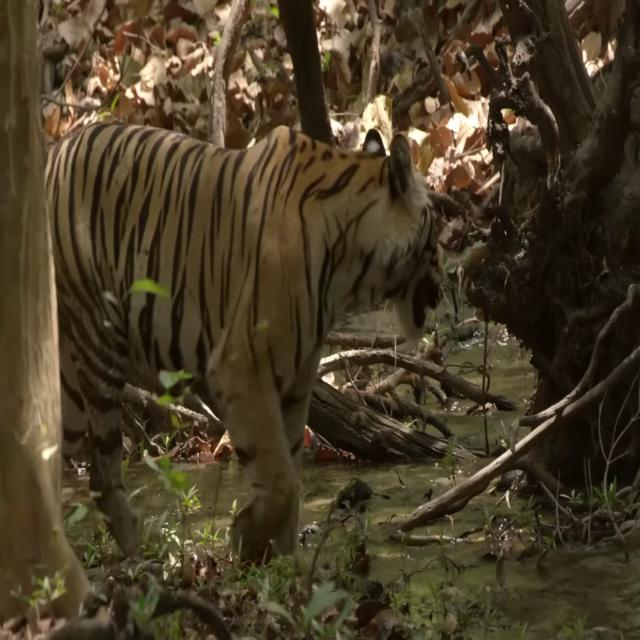tiger: (43, 120, 449, 563)
